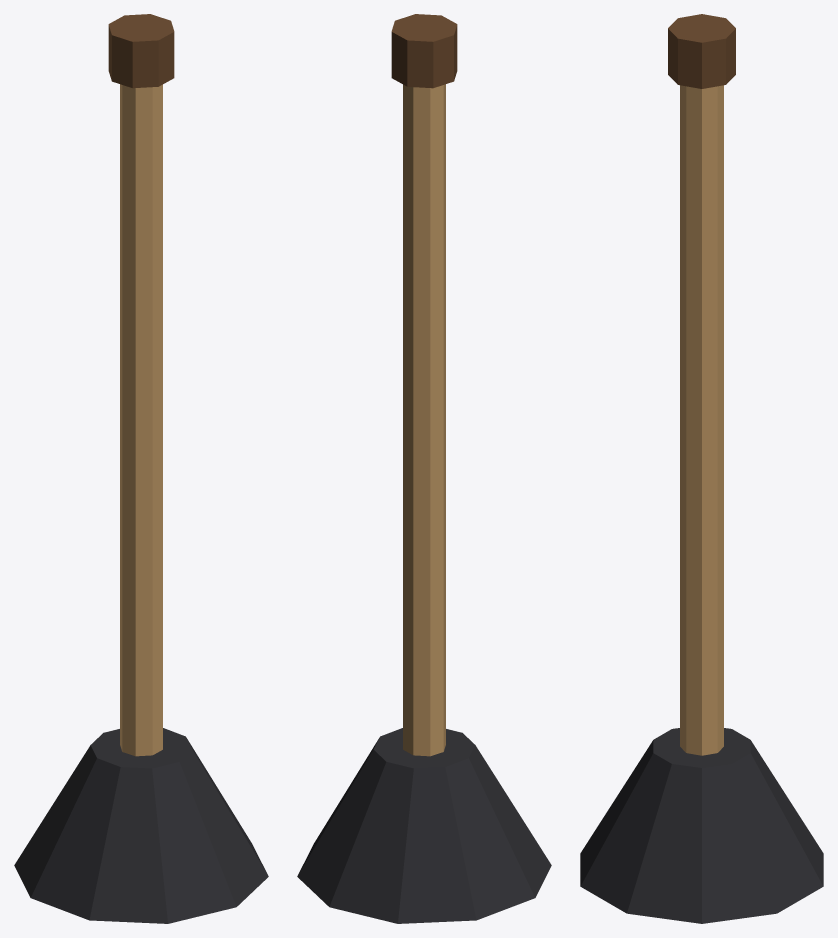
File: GT_Plunger_01.glb
3 views of the same model, side by side, from view 1: azimuth 30°, elevation 25°; view 2: azimuth 150°, elevation 25°; view 3: azimuth 270°, elevation 25° (orthographic).
Visible parts, largest first — view 1: GT_Plunger_01; view 2: GT_Plunger_01; view 3: GT_Plunger_01.
Boxes of the visible parts, box(x1,y1,x2,y2) form: GT_Plunger_01: box(14, 14, 268, 923); GT_Plunger_01: box(297, 14, 551, 923); GT_Plunger_01: box(580, 14, 823, 923).
Bounding box in the file's own units: 0.15 × 0.545 × 0.1427.
Materials: 1 (1 with a texture image).
